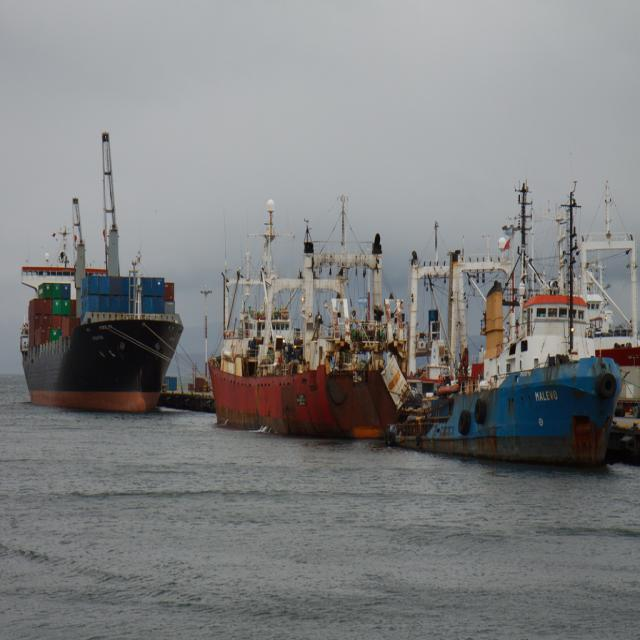Boat: (436, 385, 458, 397)
